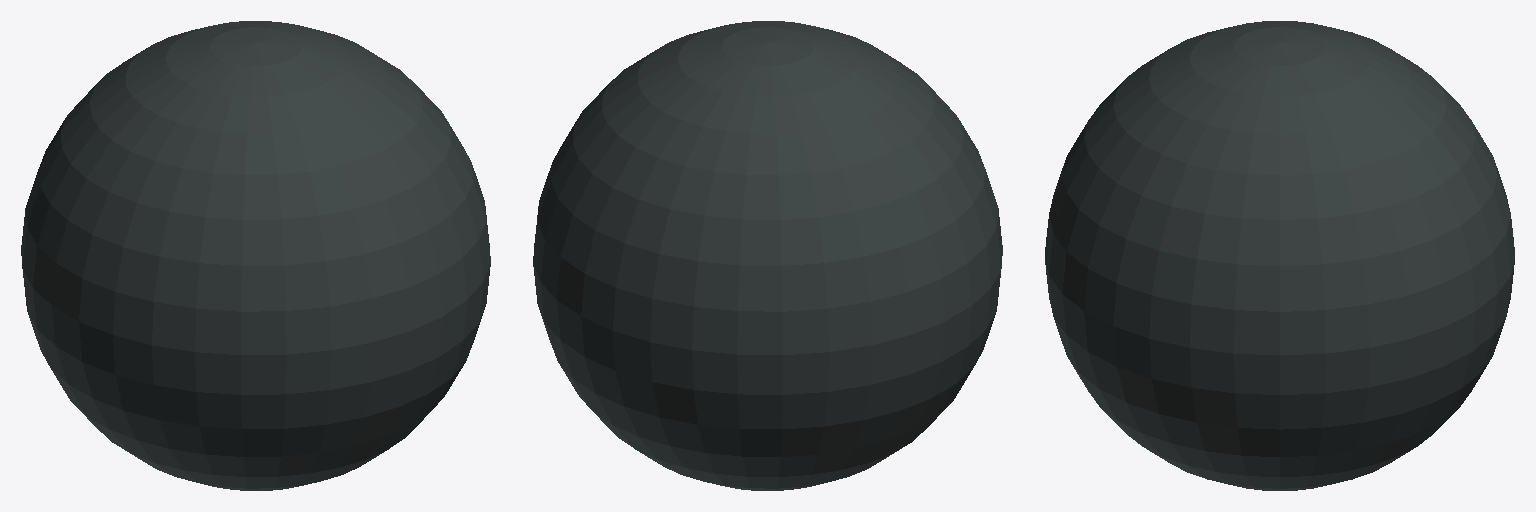
File: skybox.obj
3 views of the same model, side by side, from view 1: azimuth 30°, elevation 25°; view 2: azimuth 150°, elevation 25°; view 3: azimuth 270°, elevation 25° (orthographic).
Bounding box in the file's own units: 1210 × 1210 × 1210.